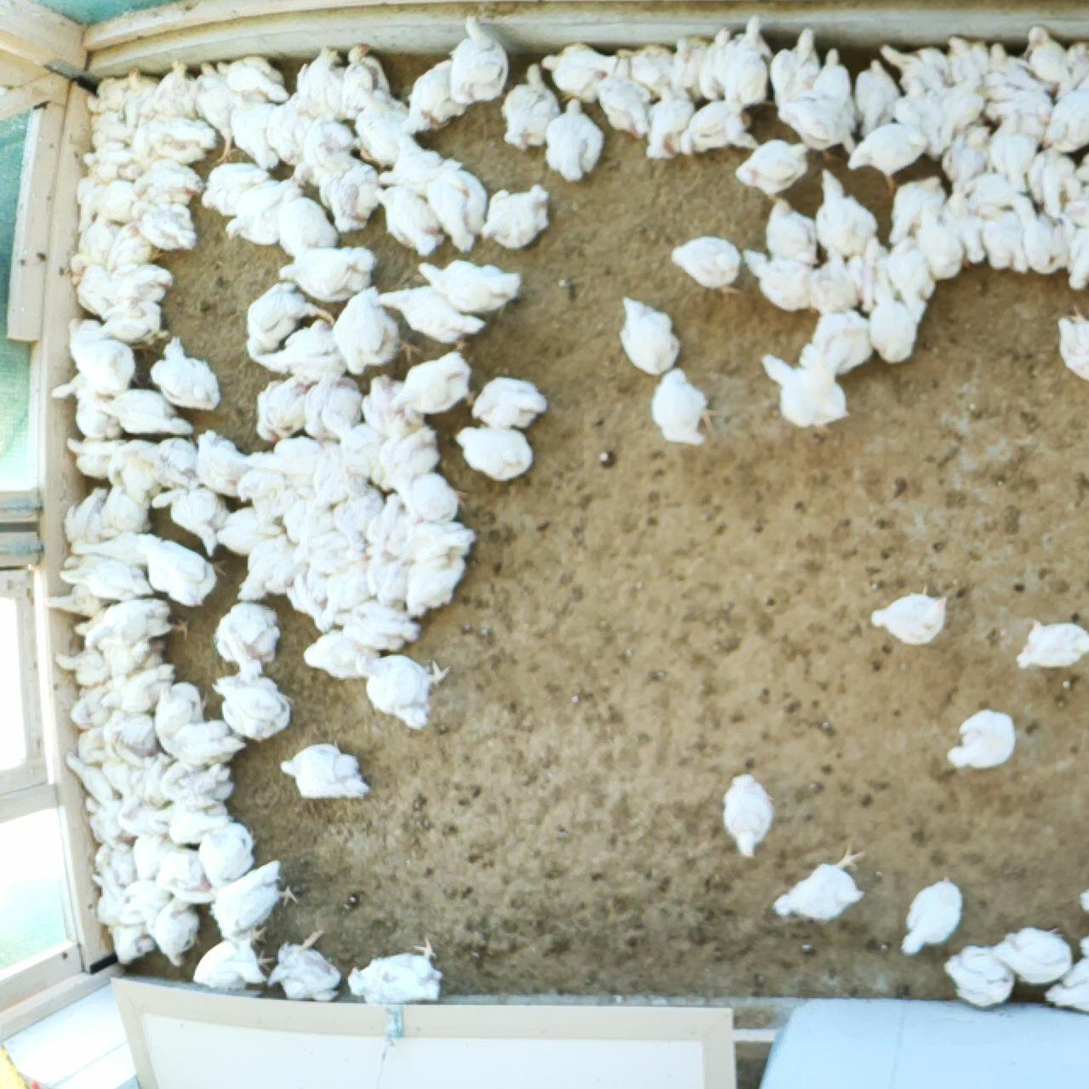chicken: (280, 246, 379, 340), (813, 180, 900, 269), (435, 13, 519, 104), (362, 651, 454, 733), (757, 359, 857, 433), (378, 285, 488, 351), (275, 744, 372, 814), (795, 311, 885, 383), (725, 131, 818, 200), (204, 872, 297, 938), (395, 544, 475, 620), (637, 367, 712, 448), (616, 297, 689, 380), (226, 197, 332, 253), (475, 184, 558, 254), (219, 673, 296, 748), (871, 588, 961, 652), (342, 953, 462, 1001), (430, 150, 488, 249), (938, 705, 1022, 773), (148, 339, 225, 413), (425, 263, 532, 316), (198, 160, 283, 226), (663, 225, 743, 295), (186, 64, 248, 154), (233, 550, 324, 611), (67, 322, 141, 397), (258, 941, 350, 1001), (144, 543, 222, 613), (308, 526, 373, 610), (725, 767, 778, 869), (864, 285, 934, 362), (457, 423, 546, 483), (328, 43, 395, 122), (498, 70, 567, 146), (149, 680, 218, 756), (895, 216, 978, 278), (771, 869, 859, 927), (993, 926, 1066, 995), (747, 199, 823, 265), (546, 99, 604, 185), (288, 52, 355, 126), (385, 486, 470, 544), (331, 602, 422, 656), (352, 96, 416, 172), (257, 375, 318, 454), (62, 538, 142, 598), (355, 375, 419, 450), (194, 435, 264, 503), (317, 161, 385, 231), (161, 769, 227, 841), (408, 57, 470, 133), (747, 245, 814, 315), (214, 606, 285, 672), (119, 157, 207, 210), (857, 130, 943, 184), (393, 357, 470, 417), (188, 826, 271, 881), (249, 289, 320, 353), (225, 88, 283, 166), (941, 943, 1012, 1006), (471, 379, 557, 431), (887, 174, 964, 232), (71, 599, 156, 651), (123, 197, 198, 255), (372, 423, 430, 497), (306, 373, 361, 451), (119, 736, 180, 806), (384, 181, 439, 258), (770, 25, 825, 102), (100, 892, 164, 958), (162, 486, 226, 552), (185, 941, 265, 992), (904, 881, 962, 951), (538, 37, 609, 94), (83, 249, 151, 308), (733, 15, 775, 109), (783, 100, 860, 151), (126, 819, 187, 883), (272, 90, 326, 162), (134, 112, 204, 166), (311, 636, 393, 682), (103, 668, 173, 719), (853, 58, 900, 133), (688, 103, 758, 153), (153, 900, 202, 970), (939, 120, 990, 187), (1052, 300, 1089, 392), (989, 47, 1052, 100), (981, 202, 1027, 274), (1022, 625, 1086, 676), (1024, 146, 1073, 212), (78, 792, 143, 841), (64, 752, 117, 812), (650, 94, 696, 162), (698, 27, 739, 102), (74, 178, 143, 222), (603, 80, 651, 143), (225, 516, 283, 568), (881, 45, 945, 92), (1024, 212, 1070, 277), (816, 41, 858, 112), (118, 450, 174, 502), (68, 433, 138, 474), (611, 43, 678, 85), (330, 493, 393, 535), (932, 84, 978, 141), (987, 94, 1046, 137), (1026, 22, 1065, 85), (315, 452, 364, 502), (1041, 958, 1089, 1009), (985, 131, 1032, 182), (283, 495, 334, 542), (949, 32, 992, 84), (679, 35, 713, 100), (82, 397, 134, 439), (308, 458, 367, 495), (1047, 96, 1089, 147), (899, 82, 939, 134), (82, 116, 138, 153), (64, 682, 106, 730), (1058, 40, 1089, 103), (1061, 225, 1089, 294), (259, 454, 316, 485), (86, 77, 130, 116), (250, 484, 296, 521), (53, 649, 108, 679), (81, 150, 134, 181), (124, 68, 162, 111), (162, 62, 191, 114), (74, 727, 109, 769), (91, 842, 125, 884), (145, 892, 176, 933), (1068, 157, 1089, 217), (76, 802, 78, 803)
